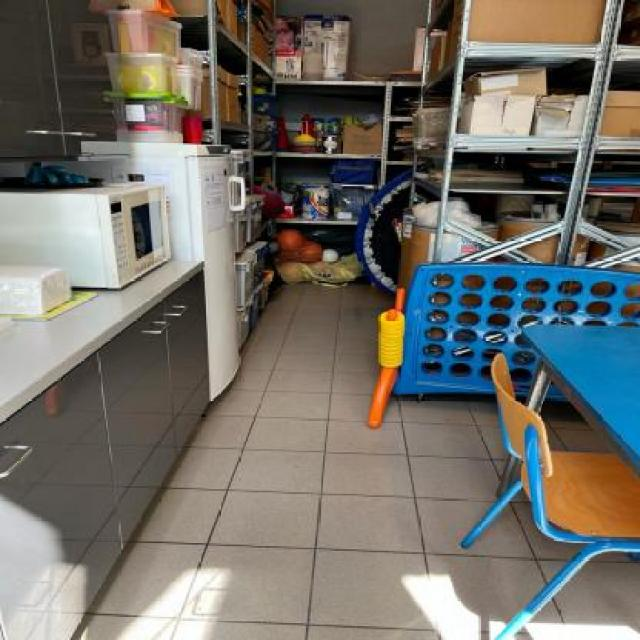Floor: (70, 285, 591, 639), (509, 552, 639, 639), (538, 399, 613, 453)
